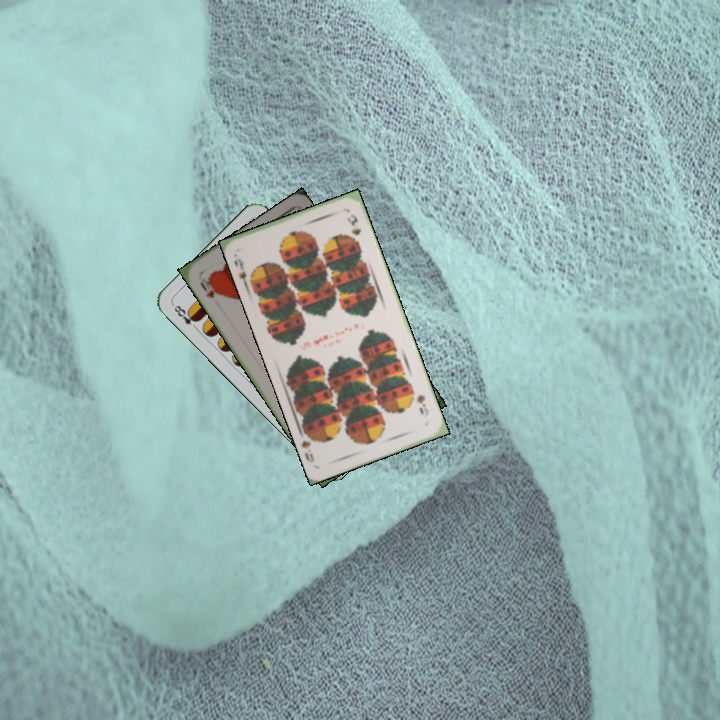E8: (169, 300, 201, 333)
HO: (196, 274, 222, 301)
S9: (230, 251, 258, 290), (413, 390, 432, 417)
